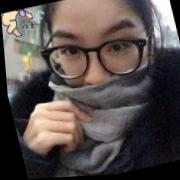WRONG: (45, 1, 164, 127)
